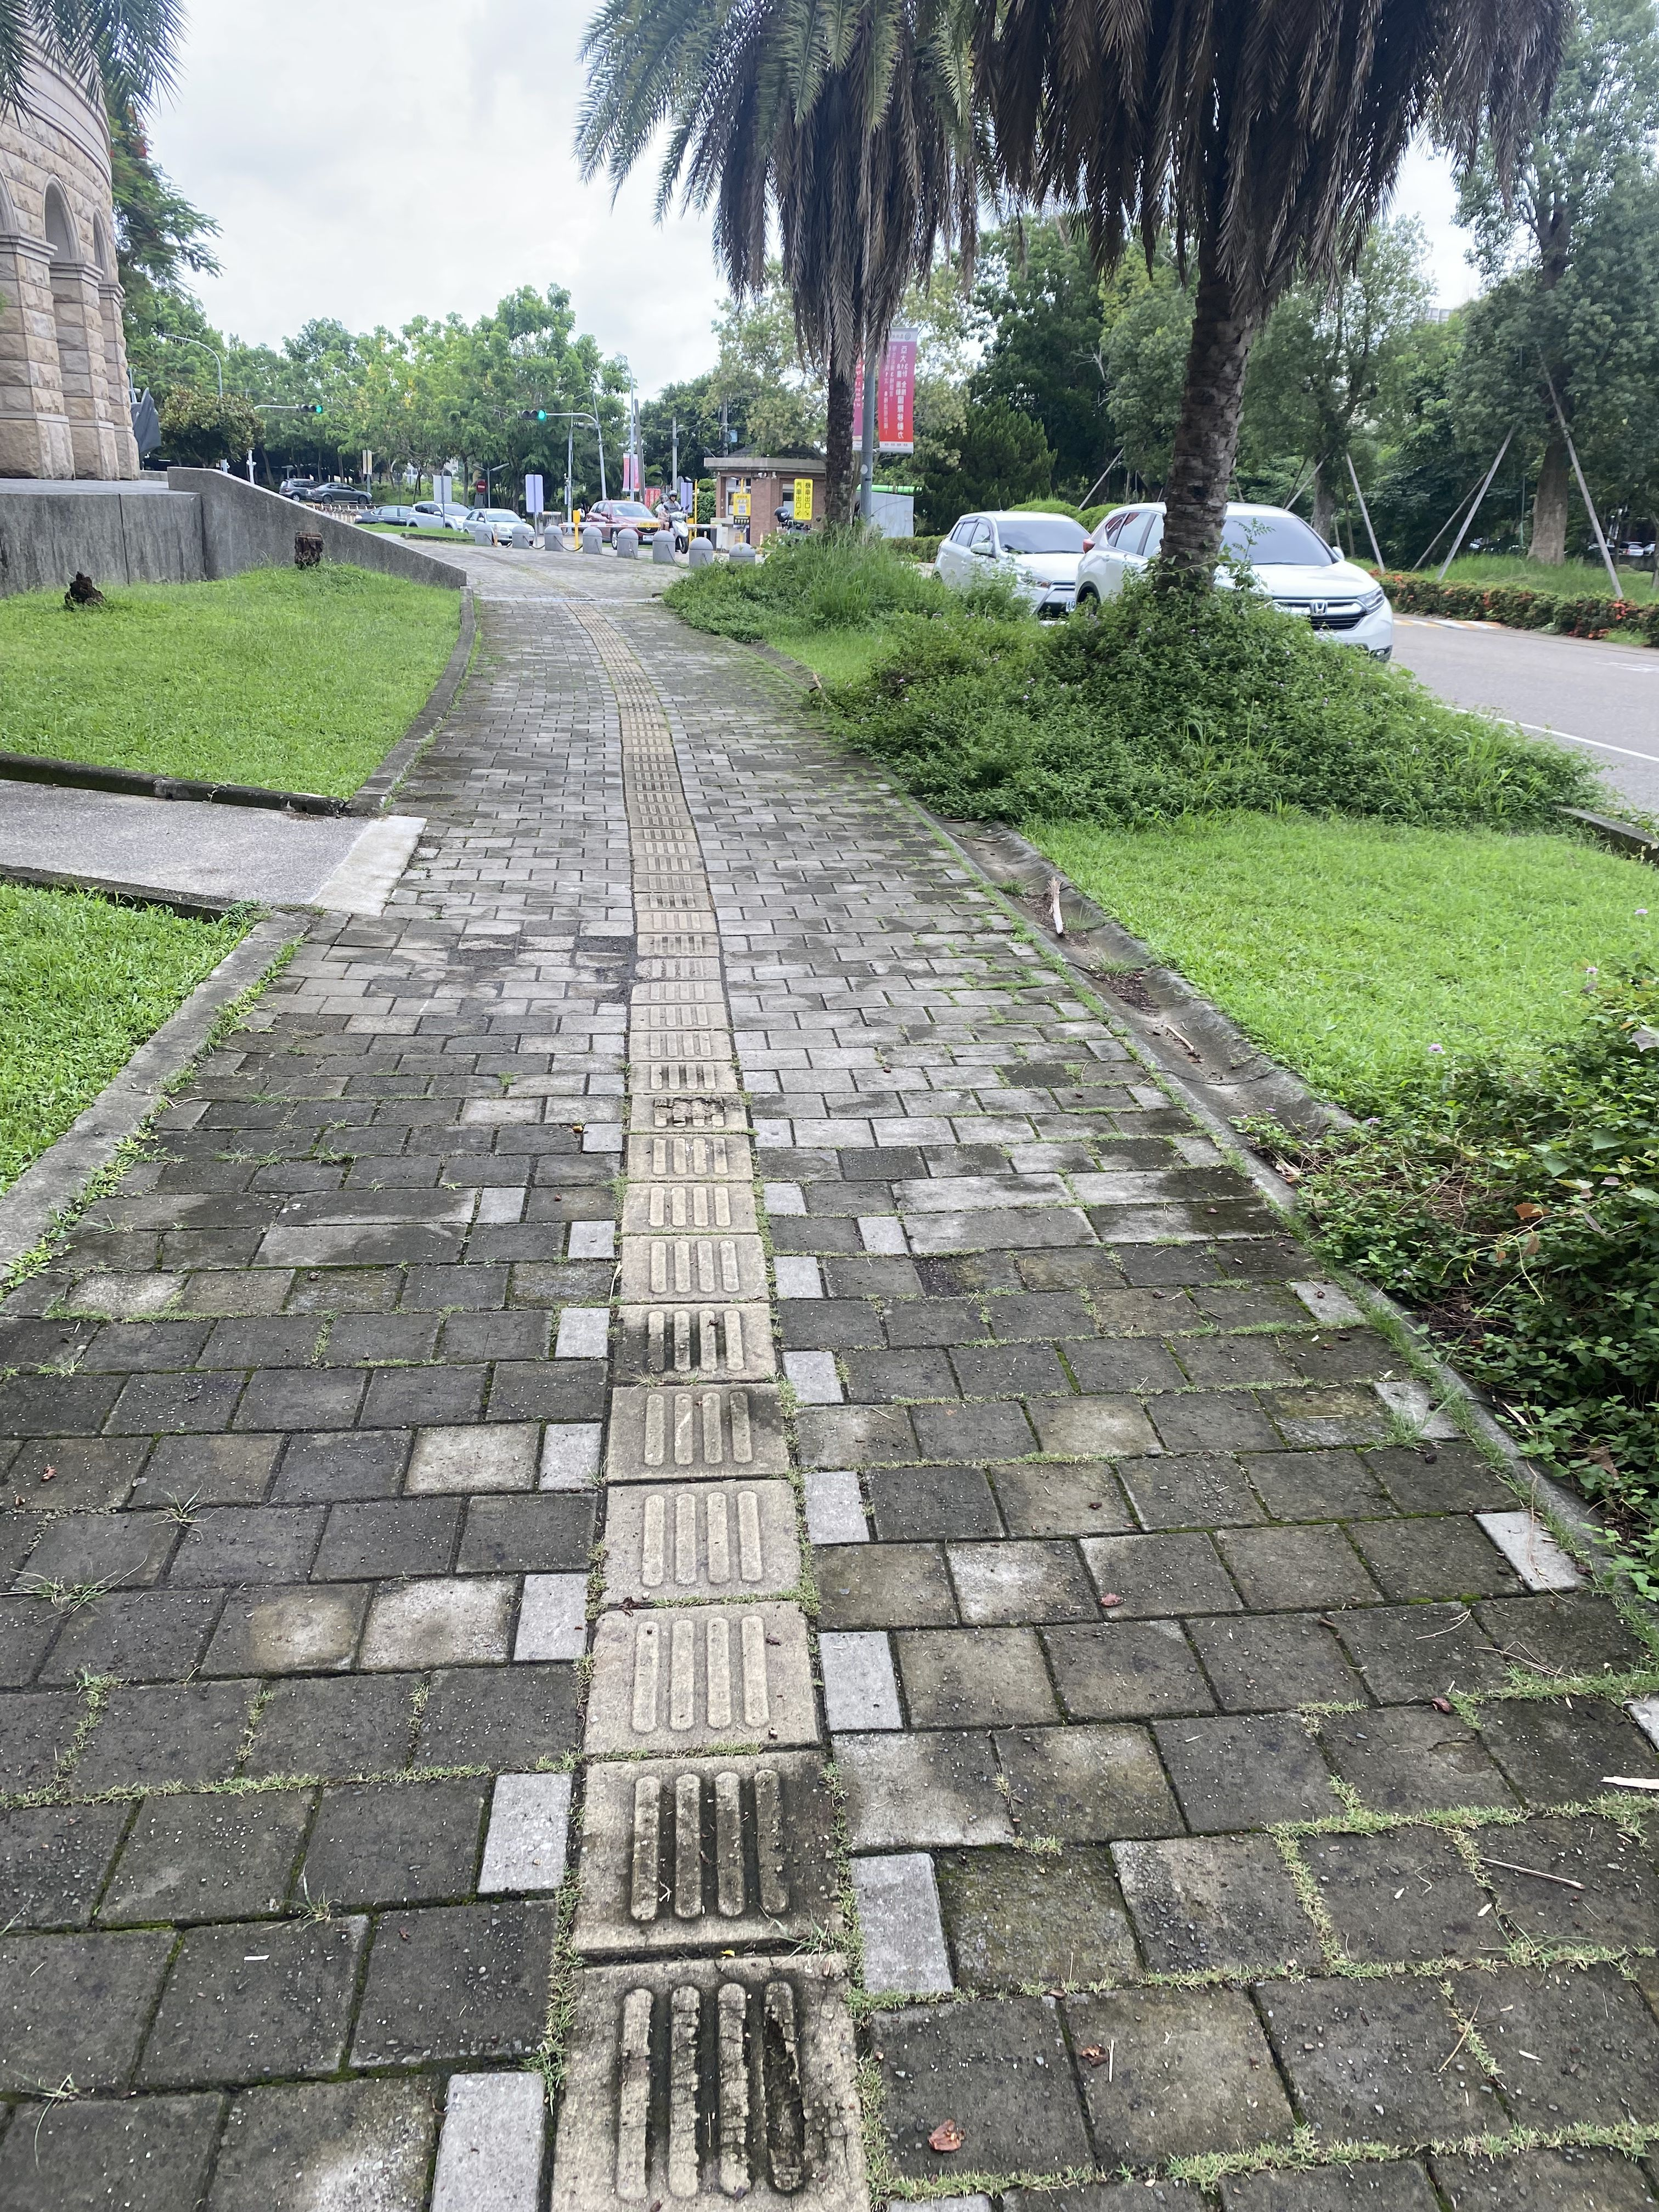0: (5, 784, 1659, 2212)
sidewalk: (401, 535, 990, 1397)
